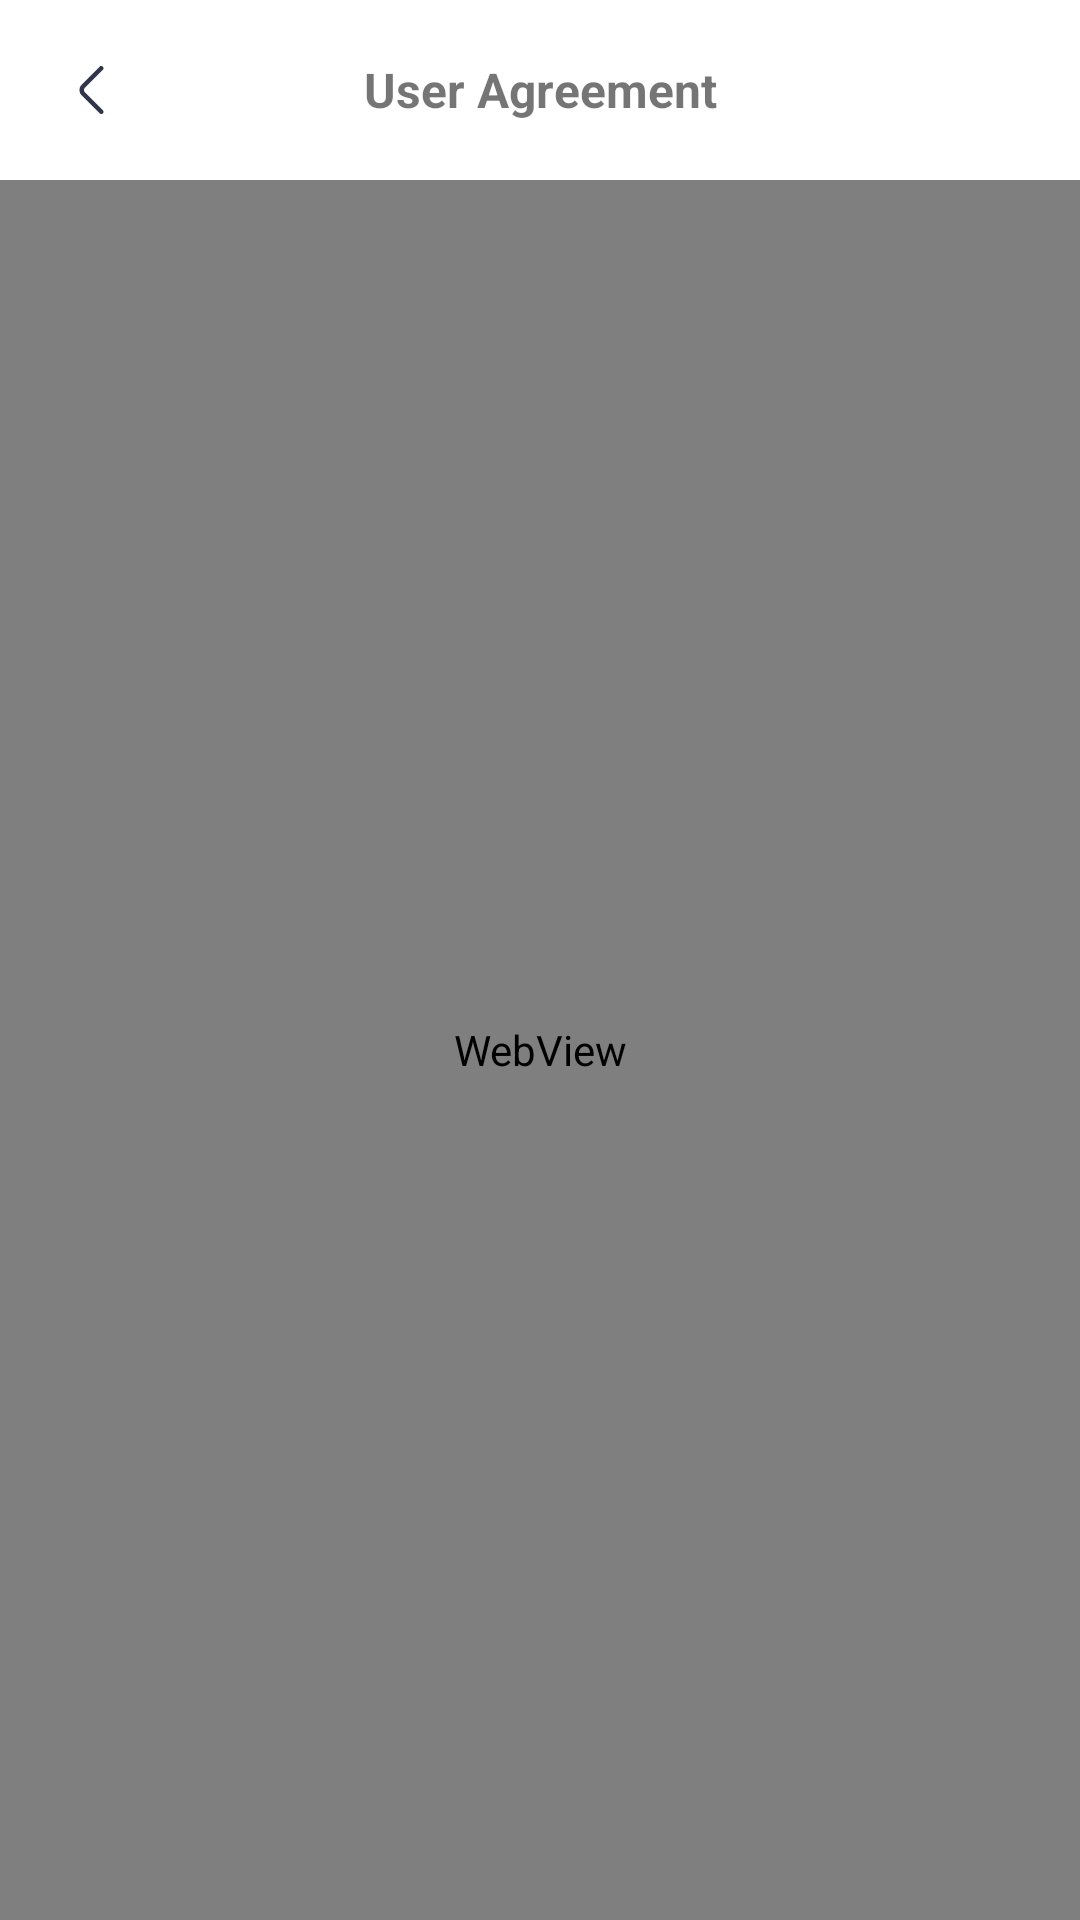

Icon click points for this 1080px×1920px phone screenshot, format (x,y):
navigation back: (91,90)
